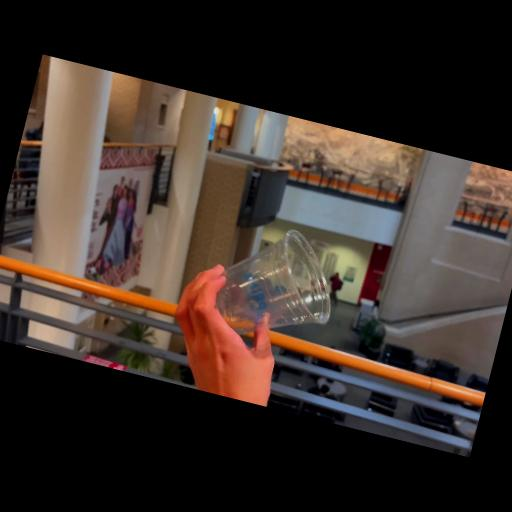lp_plastic_cup: (203, 214, 345, 352)
